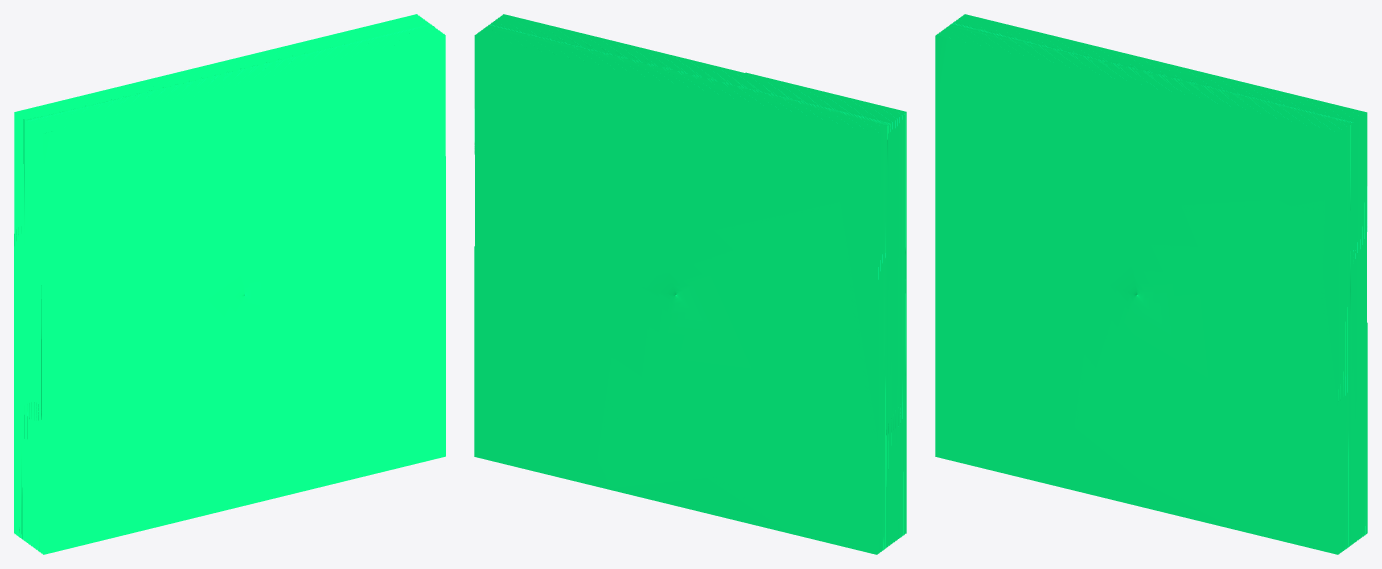
Rendered from logarithm_riemann_ar_universal.glb.
3 views of the same model, side by side, from view 1: azimuth 30°, elevation 25°; view 2: azimuth 150°, elevation 25°; view 3: azimuth 330°, elevation 25° (orthographic).
Visible parts, largest first — view 1: logarithm_riemann_ar; view 2: logarithm_riemann_ar; view 3: logarithm_riemann_ar.
Boxes of the visible parts, x1,y1,x2,y2 form: logarithm_riemann_ar: (14,14,445,554); logarithm_riemann_ar: (474,14,906,554); logarithm_riemann_ar: (935,14,1367,554).
Bounding box in the file's own units: 1 × 1 × 0.1284.
